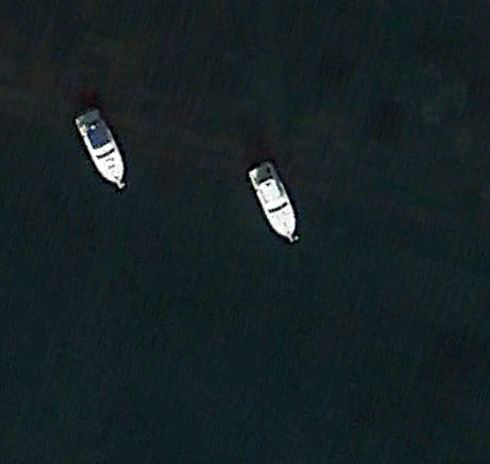boat: (72, 103, 126, 190), (248, 158, 299, 242)
